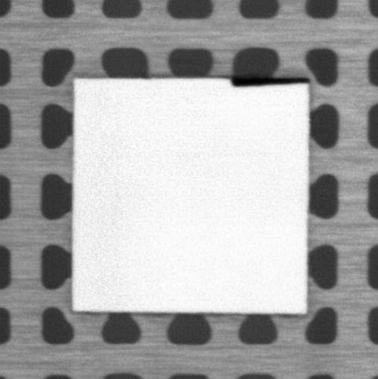DIE_BROKEN: (230, 74, 311, 88)
